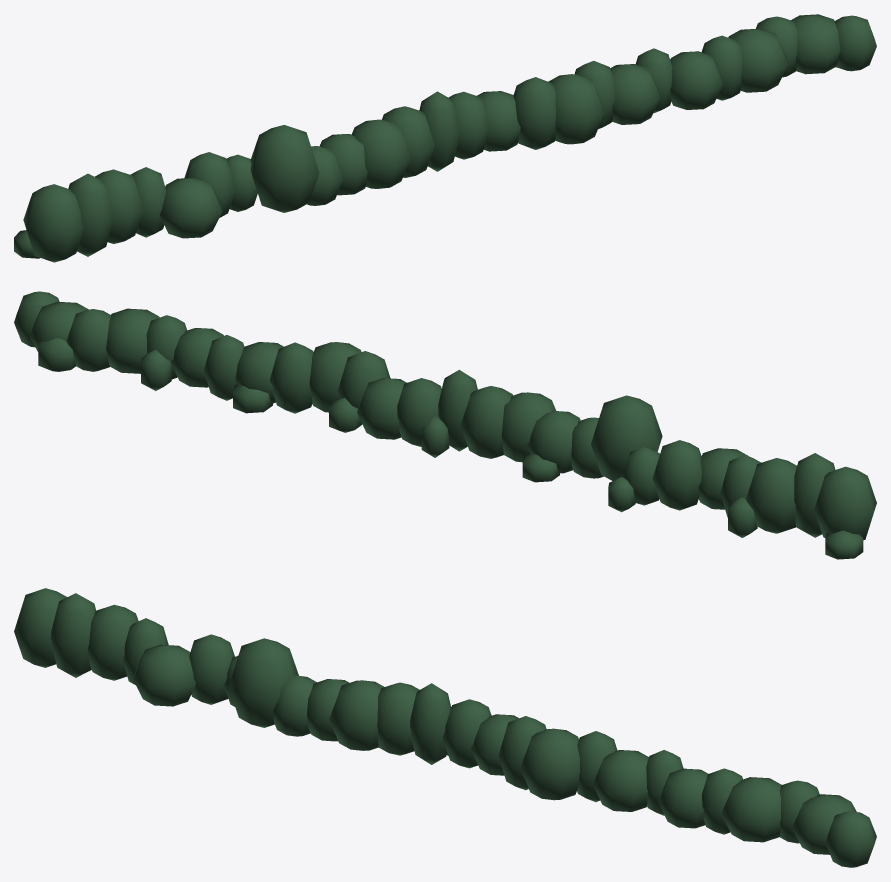
File: world_site_equatorial_treeline.glb
3 views of the same model, one above another, from view 1: azimuth 30°, elevation 25°; view 2: azimuth 150°, elevation 25°; view 3: azimuth 330°, elevation 25° (orthographic).
Visible parts, largest first — view 1: world_site_equatorial_treeline_mesh; view 2: world_site_equatorial_treeline_mesh; view 3: world_site_equatorial_treeline_mesh.
Boxes of the visible parts, left/top/right/bottom form: world_site_equatorial_treeline_mesh: left=14, top=14, right=876, bottom=262; world_site_equatorial_treeline_mesh: left=14, top=291, right=876, bottom=559; world_site_equatorial_treeline_mesh: left=14, top=588, right=876, bottom=867.
Size of the model in its own units: 128 by 13.13 by 13.83.
